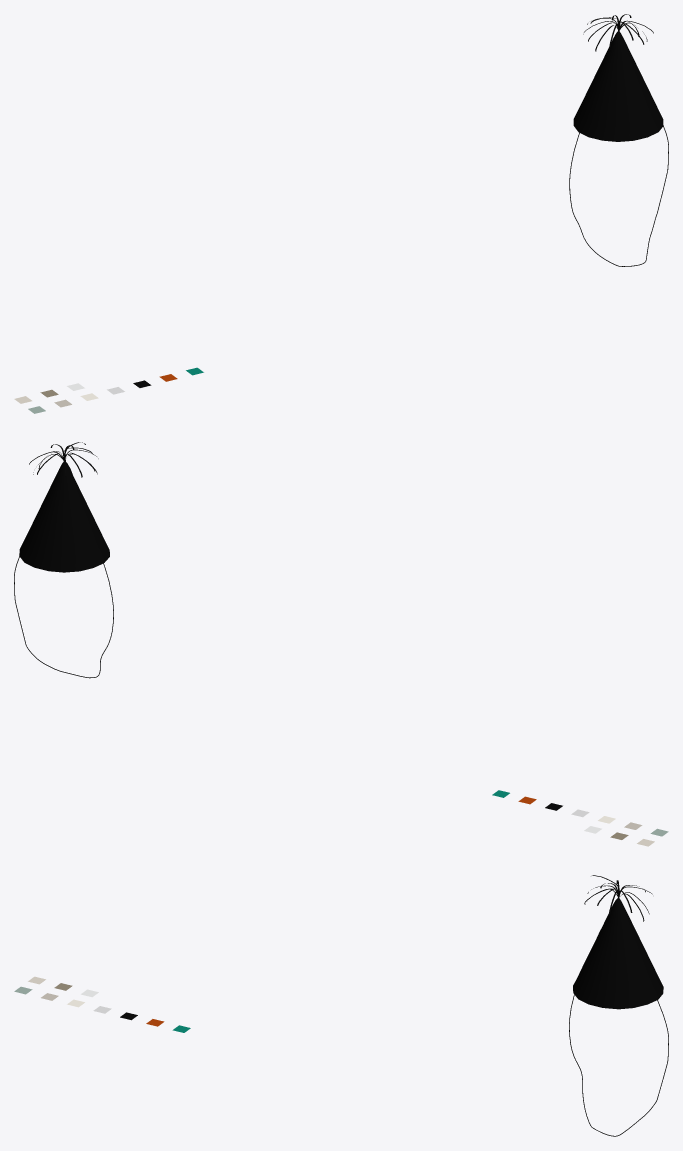
Rendered from party hat.fbx.
3 views of the same model, one above another, from view 1: azimuth 30°, elevation 25°; view 2: azimuth 150°, elevation 25°; view 3: azimuth 330°, elevation 25° (orthographic).
Parts seen in each view (by area): view 1: Party_Hat, Group_001; view 2: Party_Hat, Group_001; view 3: Party_Hat, Group_001.
Part boxes in pixels (<box>): Party_Hat: <box>569,14,668,266</box>; Group_001: <box>14,367,203,413</box>; Party_Hat: <box>14,442,113,678</box>; Group_001: <box>492,790,668,846</box>; Party_Hat: <box>569,875,668,1136</box>; Group_001: <box>14,976,190,1032</box>.
Size of the model in its own units: 104 by 38.16 by 12.53.
